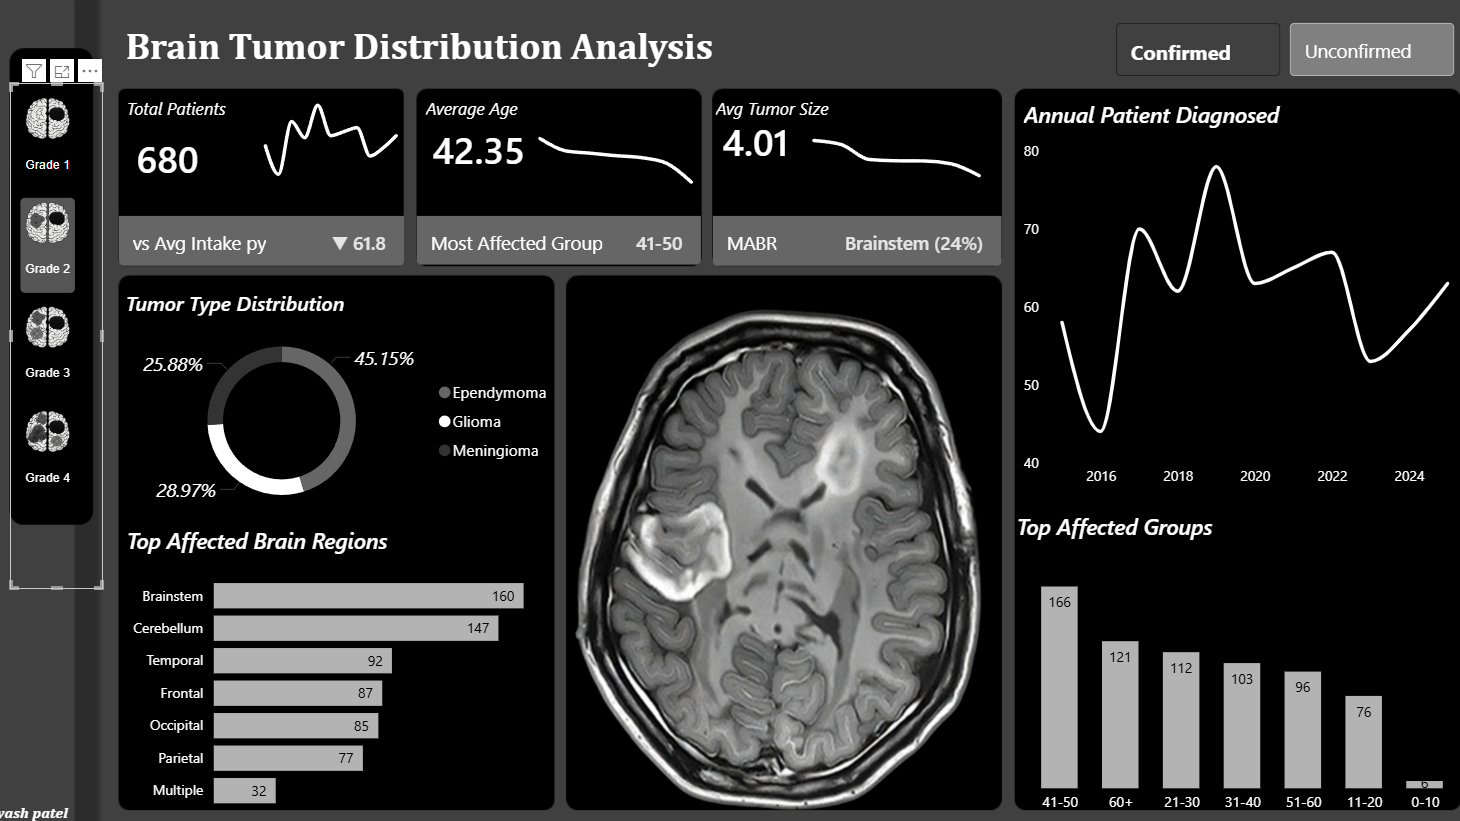

This screenshot's page, from the dashboard's own definition file:
{"tool":"powerbi","page":{"name":"Page 1","canvas":[1280,720],"ordinal":0},"visuals":[{"type":"cardVisual","fields":{"Data":["Count(Brain Tumor Data.Patient ID)"]},"box":[96.7,90,186.7,96.7],"z":0},{"type":"lineChart","fields":{"Category":["Brain Tumor Data.Date of Diagnosis.Variation.Date Hierarchy.Year","Brain Tumor Data.Date of Diagnosis.Variation.Date Hierarchy.Quarter","Brain Tumor Data.Date of Diagnosis.Variation.Date Hierarchy.Month","Brain Tumor Data.Date of Diagnosis.Variation.Date Hierarchy.Day"],"Y":["CountNonNull(Brain Tumor Data.Patient ID)"]},"box":[221.4,77.1,142.9,90],"z":1000},{"type":"cardVisual","fields":{"Data":["CountNonNull(Brain Tumor Data.Patient ID)"]},"box":[86.2,109,294.3,148.1],"z":2000},{"type":"textbox","box":[112,82,127,33.5],"z":3000},{"type":"cardVisual","fields":{"Data":["Avg(Brain Tumor Data.Age)"]},"box":[351.7,81.7,186.7,96.7],"z":4000},{"type":"lineChart","fields":{"Y":["CountNonNull(Brain Tumor Data.Patient ID)"],"Category":["Brain Tumor Data.Age Group"]},"box":[460,101,158,67],"z":5000},{"type":"cardVisual","fields":{"Data":["CountNonNull(Brain Tumor Data.Patient ID)"]},"box":[343.3,108.6,293.3,147.6],"z":6000},{"type":"textbox","box":[370,81.7,127.5,34.2],"z":7000},{"type":"cardVisual","fields":{"Data":["Avg(Brain Tumor Data.Tumor Size (cm))"]},"box":[601.7,75,186.7,96.7],"z":8000},{"type":"lineChart","fields":{"Category":["Brain Tumor Data.Affected Brain Region"],"Y":["Sum(Brain Tumor Data.Tumor Size (cm))"]},"box":[695,101.7,171.7,66.7],"z":9000},{"type":"cardVisual","fields":{"Data":["CountNonNull(Brain Tumor Data.Patient ID)"]},"box":[598.5,108.5,297.7,148.5],"z":10000},{"type":"textbox","box":[620,81.7,126.7,33.3],"z":11000},{"type":"advancedSlicerVisual","fields":{"Values":["Brain Tumor Data.Histology Confirmation"]},"box":[965,18.3,303.3,56.7],"z":12000},{"type":"ChicletSlicer1448559807354","fields":{"Category":["Tumor Images.Column1"],"Image":["Tumor Images.Column3"]},"box":[16.7,75,80,436.7],"z":13000},{"type":"imageDB603108E3FF4EBFB8047F5653368E8C","fields":{"imageUrl":["Tumor Images.Column2"]},"box":[495.7,247.1,370,472.9],"z":14000},{"type":"donutChart","title":"Tumor Type Distribution","fields":{"Category":["Brain Tumor Data.Tumor Type"],"Y":["CountNonNull(Brain Tumor Data.Patient ID)"]},"box":[111.4,252.9,382.9,204.3],"z":15000},{"type":"barChart","title":"Top Affected Brain Regions","fields":{"Category":["Brain Tumor Data.Affected Brain Region"],"Y":["CountNonNull(Brain Tumor Data.Patient ID)"]},"box":[112,457,383,256],"z":16000},{"type":"lineChart","title":"Annual Patient Diagnosed","fields":{"Category":["Brain Tumor Data.Date of Diagnosis.Variation.Date Hierarchy.Year","Brain Tumor Data.Date of Diagnosis.Variation.Date Hierarchy.Quarter","Brain Tumor Data.Date of Diagnosis.Variation.Date Hierarchy.Month","Brain Tumor Data.Date of Diagnosis.Variation.Date Hierarchy.Day"],"Y":["CountNonNull(Brain Tumor Data.Patient ID)"]},"box":[885.7,90,388.6,342.9],"z":17000},{"type":"clusteredColumnChart","title":"Top Affected Groups","fields":{"Category":["Brain Tumor Data.Age Group"],"Y":["CountNonNull(Brain Tumor Data.Patient ID)"]},"box":[880,445,400,268.3],"z":18000},{"type":"textbox","box":[111.4,18.6,551.4,67.1],"z":19000},{"type":"textbox","box":[0,690,75.5,30],"z":20000}]}

Visuals, with their boxes on the page's 1280x720 design canvas (x1, y1, x2, y2). These are canvas units, not pixel positions in the 1460x821 screenshot, which may show the page scaled, cropped or inside an application window:
cardVisual - Count(Brain Tumor Data.Patient ID): 97/90/283/187
lineChart - Brain Tumor Data.Date of Diagnosis.Variation.Date Hierarchy.Year x Brain Tumor Data.Date of Diagnosis.Variation.Date Hierarchy.Quarter: 221/77/364/167
cardVisual - CountNonNull(Brain Tumor Data.Patient ID): 86/109/380/257
textbox: 112/82/239/116
cardVisual - Avg(Brain Tumor Data.Age): 352/82/538/178
lineChart - CountNonNull(Brain Tumor Data.Patient ID) x Brain Tumor Data.Age Group: 460/101/618/168
cardVisual - CountNonNull(Brain Tumor Data.Patient ID): 343/109/637/256
textbox: 370/82/498/116
cardVisual - Avg(Brain Tumor Data.Tumor Size (cm)): 602/75/788/172
lineChart - Brain Tumor Data.Affected Brain Region x Sum(Brain Tumor Data.Tumor Size (cm)): 695/102/867/168
cardVisual - CountNonNull(Brain Tumor Data.Patient ID): 598/108/896/257
textbox: 620/82/747/115
advancedSlicerVisual - Brain Tumor Data.Histology Confirmation: 965/18/1268/75
ChicletSlicer1448559807354 - Tumor Images.Column1 x Tumor Images.Column3: 17/75/97/512
imageDB603108E3FF4EBFB8047F5653368E8C - Tumor Images.Column2: 496/247/866/720
"Tumor Type Distribution" donutChart: 111/253/494/457
"Top Affected Brain Regions" barChart: 112/457/495/713
"Annual Patient Diagnosed" lineChart: 886/90/1274/433
"Top Affected Groups" clusteredColumnChart: 880/445/1280/713
textbox: 111/19/663/86
textbox: 0/690/76/720
